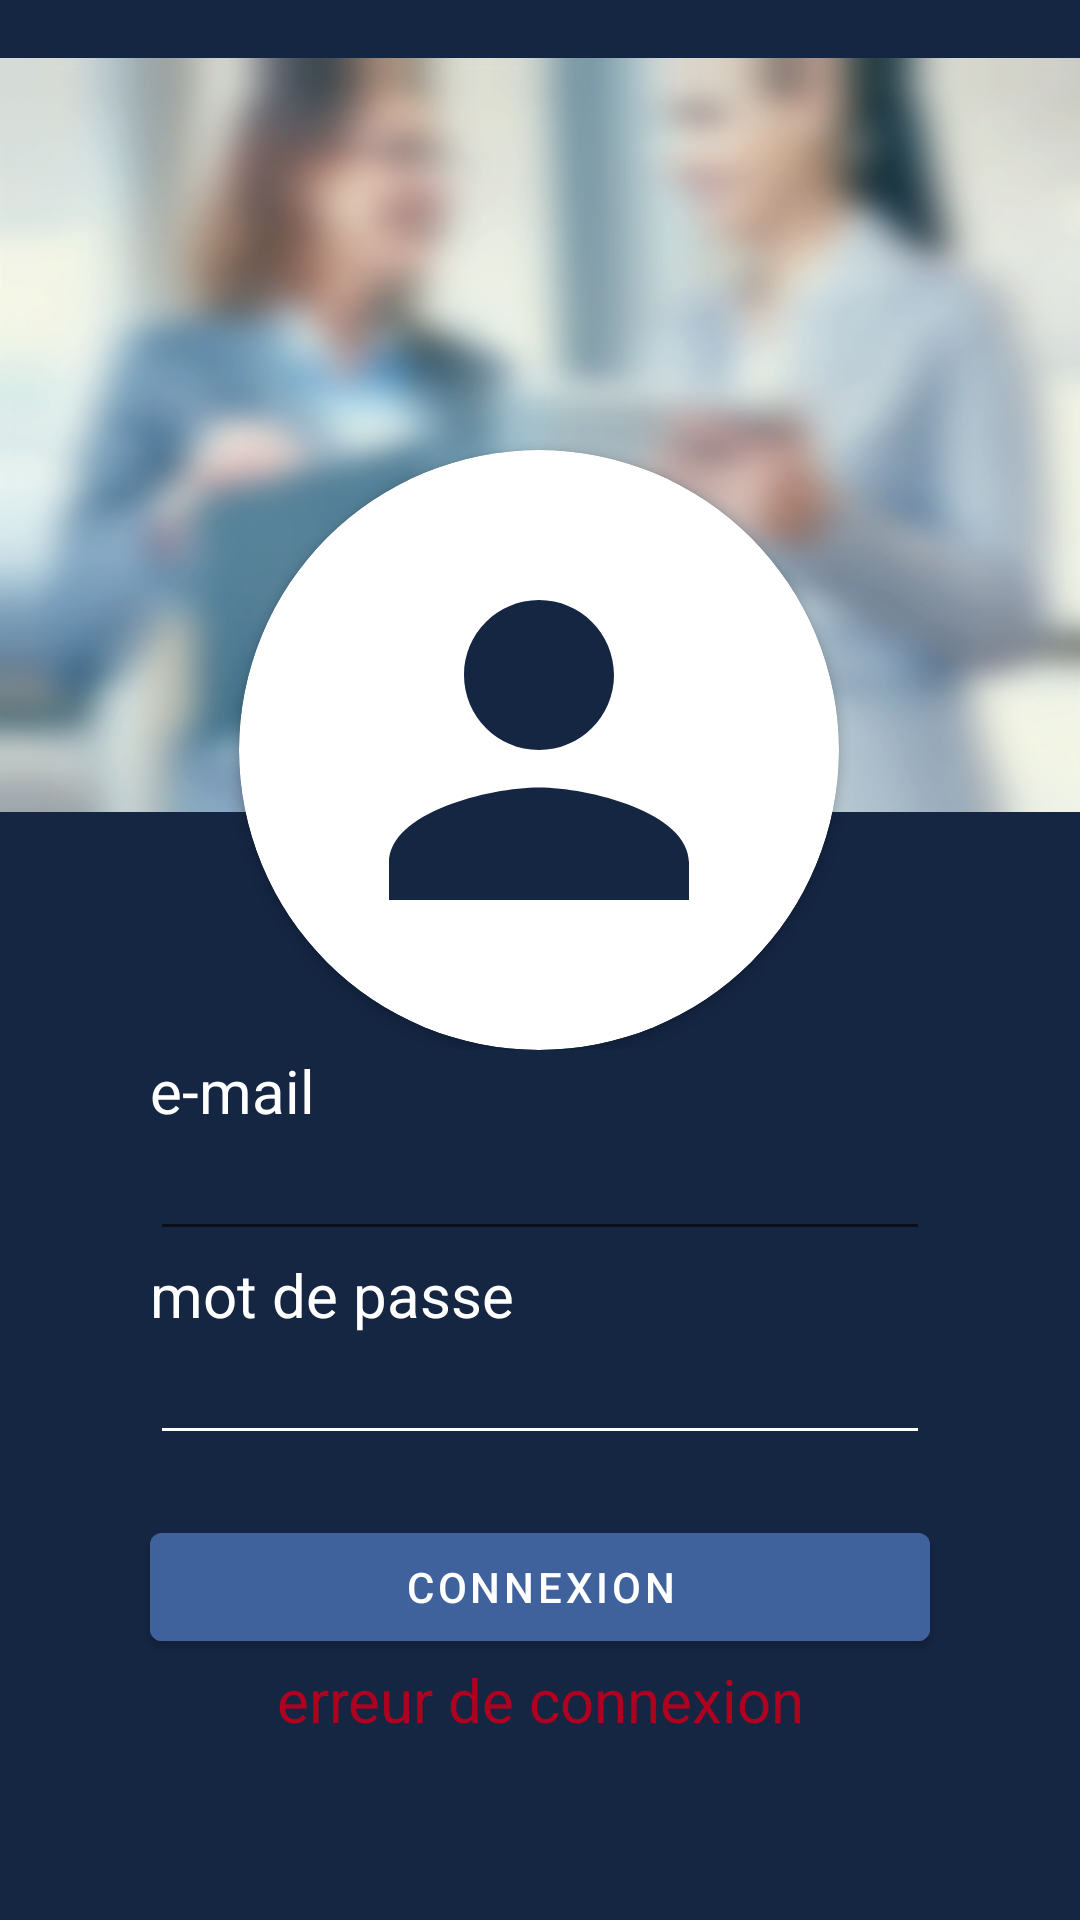

Where icons sit on this 1080 × 1920 app screen, as bbox=(x1, y1, x2, y2):
person: bbox=(389, 600, 689, 900)
